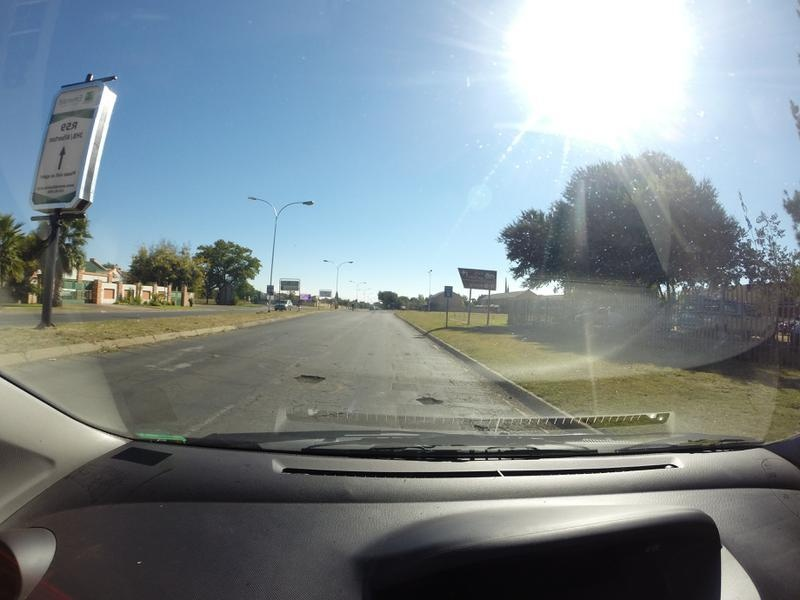pothole: (272, 369, 329, 394), (403, 389, 448, 409), (461, 418, 497, 434)
